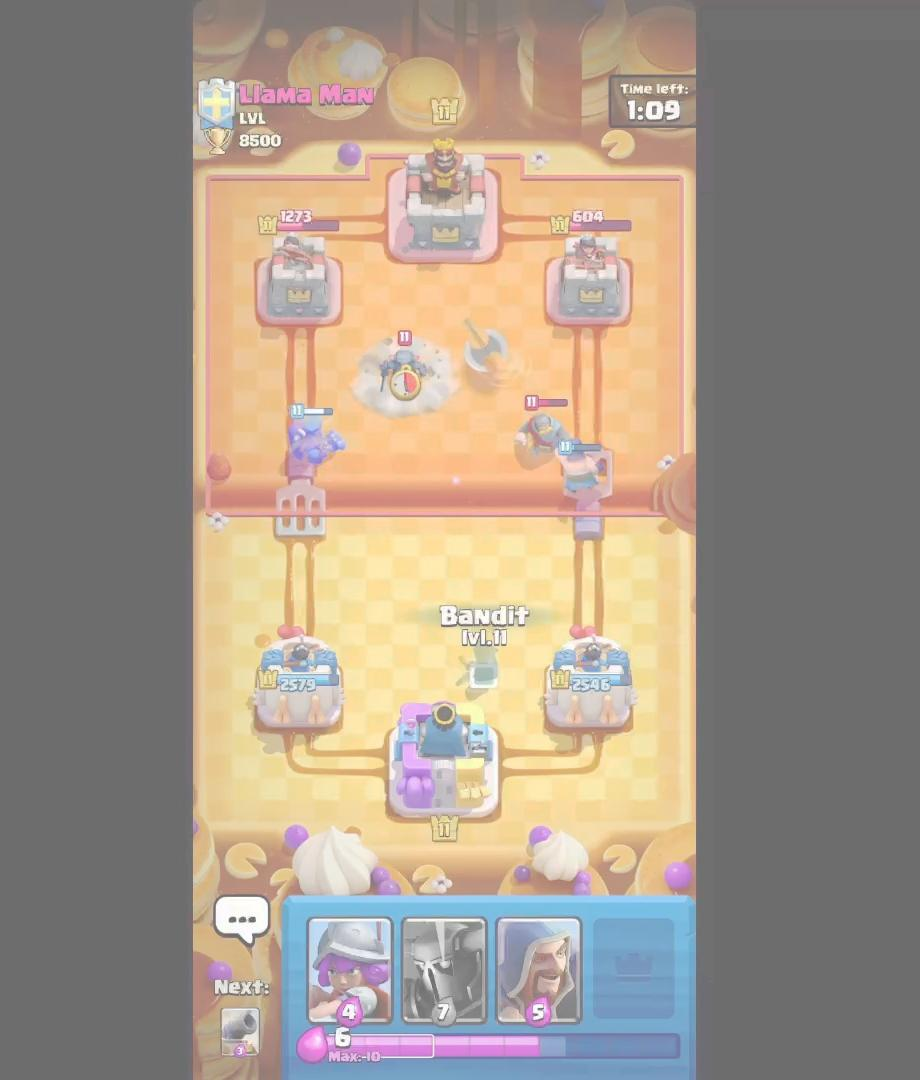Knight: (512, 387, 578, 469)
Mini Pekka: (379, 326, 430, 400)
